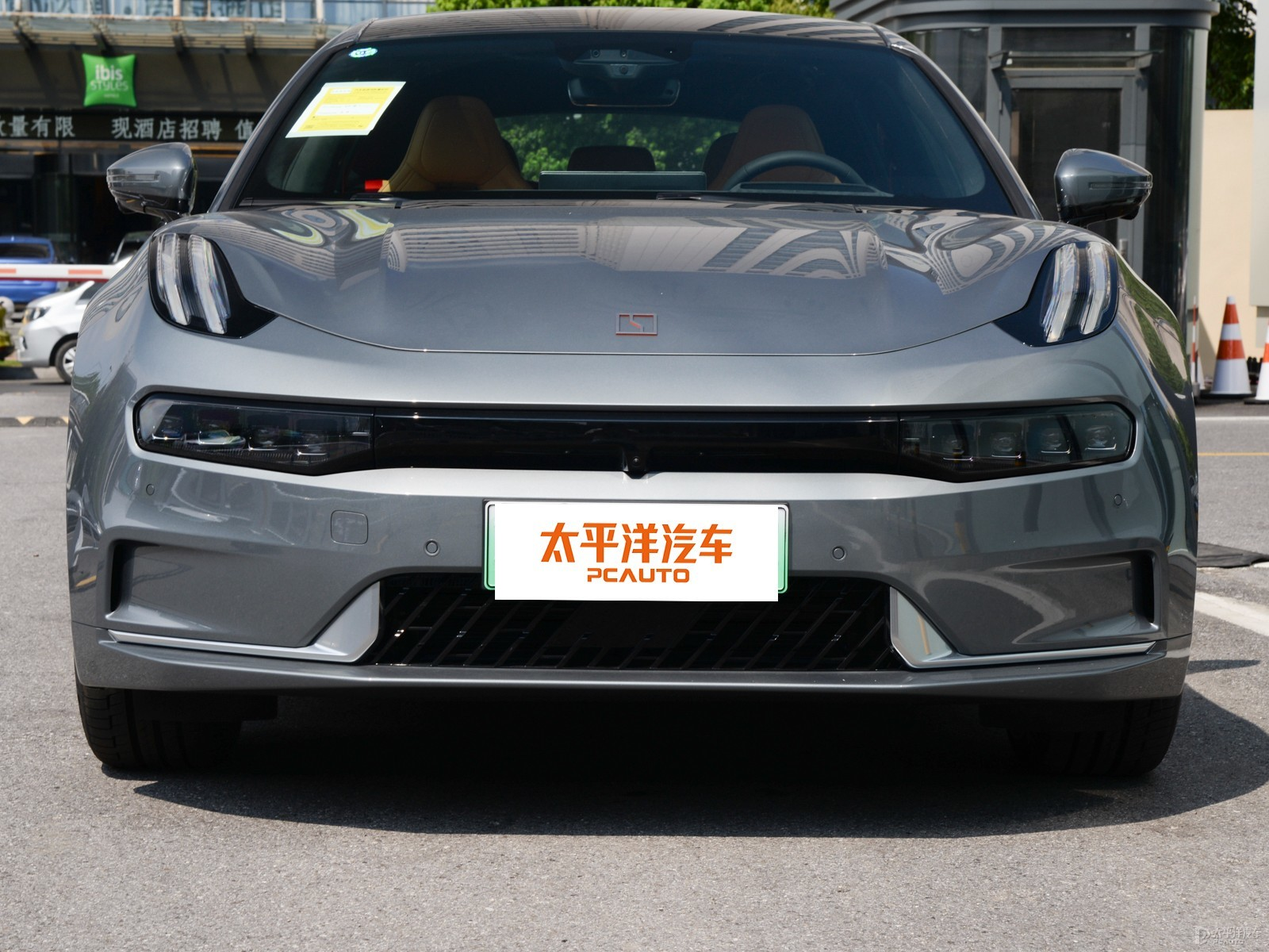ZEEKR: (616, 313, 657, 335)
